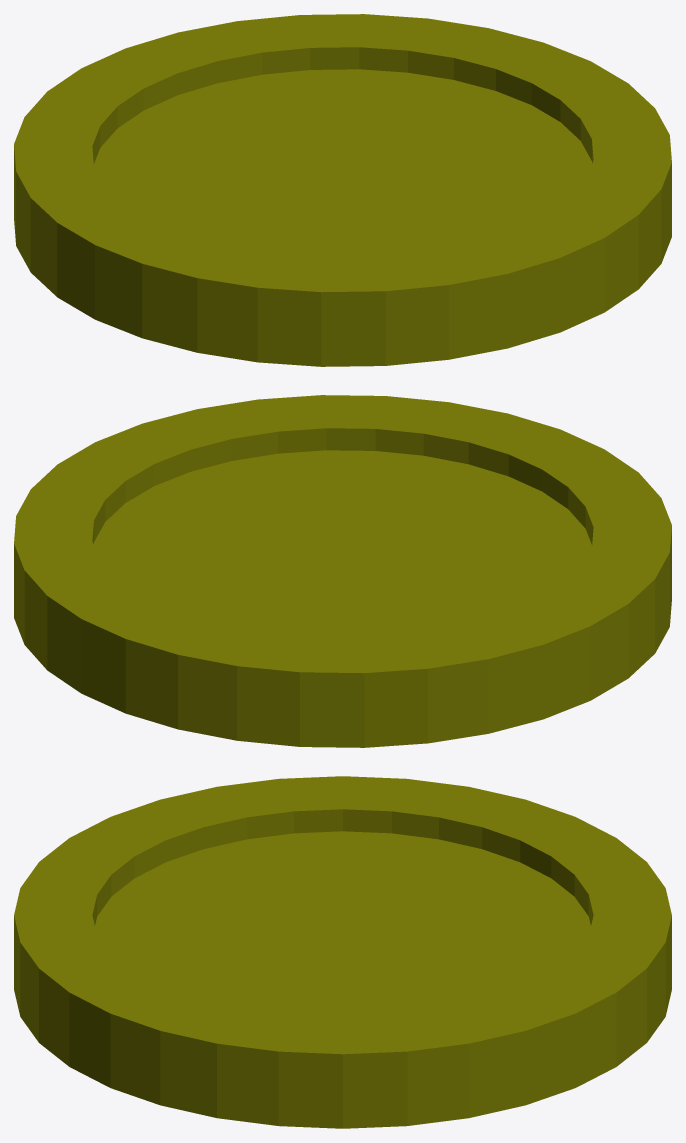
3 views of the same model, one above another, from view 1: azimuth 30°, elevation 25°; view 2: azimuth 150°, elevation 25°; view 3: azimuth 270°, elevation 25° (orthographic).
Parts seen in each view (by area): view 1: ficha1; view 2: ficha1; view 3: ficha1.
Part boxes in pixels (bbox=[...]): ficha1: bbox=[14, 14, 671, 366]; ficha1: bbox=[14, 395, 671, 747]; ficha1: bbox=[14, 776, 671, 1128].
Size of the model in its own units: 2 by 0.25 by 2.
